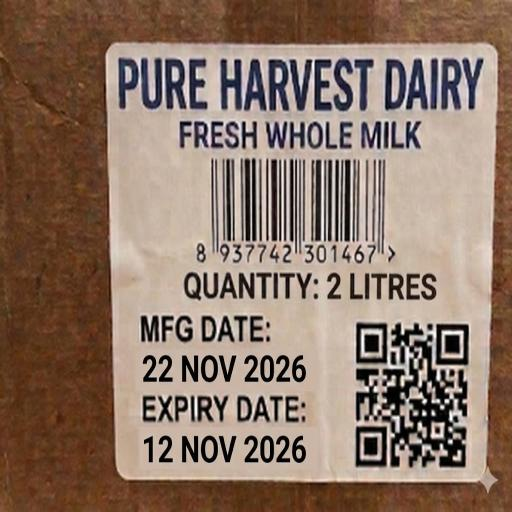barcoderotation: (191, 154, 403, 265)
damaged_labelrotation: (136, 395, 314, 467)
expiry_daterotation: (112, 46, 486, 479)
labelrotation: (134, 310, 310, 386)
mfg_daterotation: (348, 314, 471, 474)
qr_coderotation: (178, 268, 437, 304)
